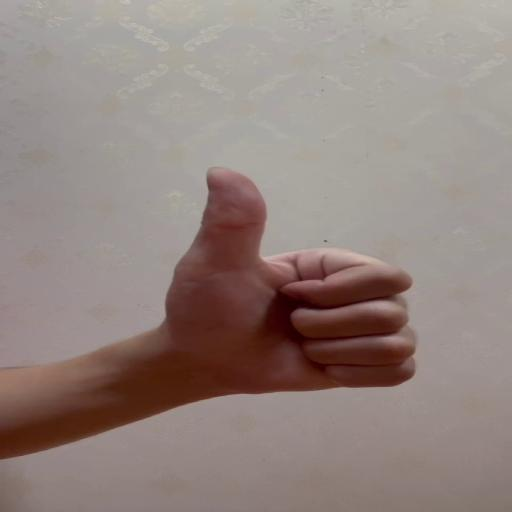thumbs_up: (170, 166, 420, 394)
